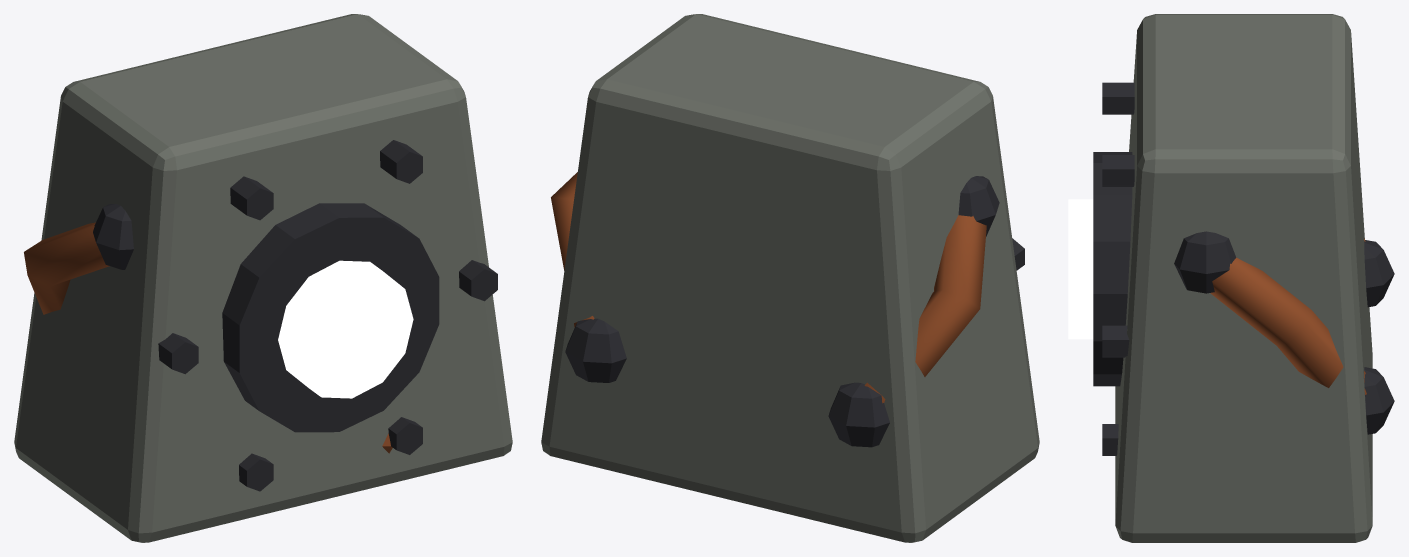
File: co_dynamo.glb
The picture shows the model from 3 angles, left to right: view 1: azimuth 30°, elevation 25°; view 2: azimuth 150°, elevation 25°; view 3: azimuth 270°, elevation 25°; orthographic projection.
Parts seen in each view (by area): view 1: co_dynamo; view 2: co_dynamo; view 3: co_dynamo.
Part boxes in pixels (left/top/right/bottom): co_dynamo: left=14, top=14, right=512, bottom=542; co_dynamo: left=541, top=14, right=1039, bottom=542; co_dynamo: left=1068, top=14, right=1394, bottom=542.
Bounding box in the file's own units: 0.167 × 0.1415 × 0.1118.
